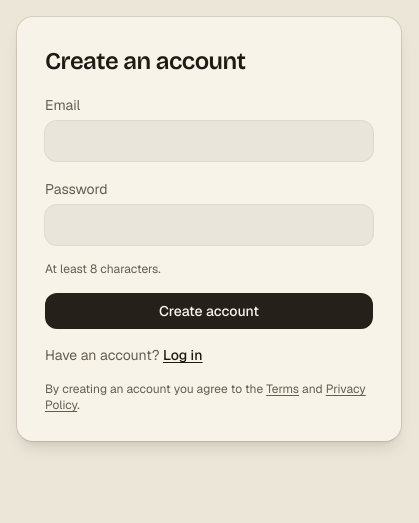
Test: SignupForm › keeps the form and shows a message when the providers endpoint fails after signup
Type "ann@example.com" into the field labelled "Email". click: (209, 141)
box: [45,121,373,161]
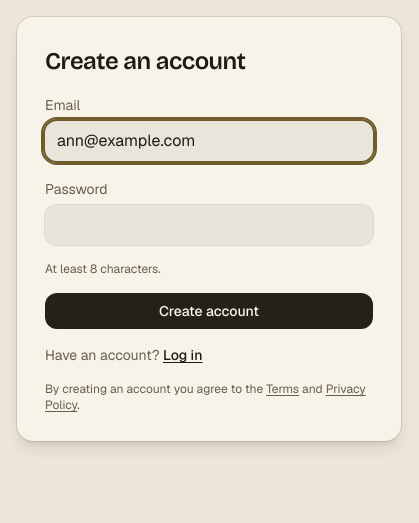
Type "correct-horse" into the password field labelled "Password". click: (209, 225)
box: [45,205,373,245]
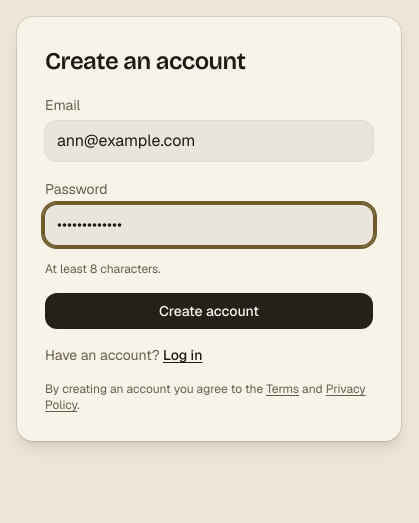
Click the button "Create account". click: click(209, 311)
box: [45,293,373,329]
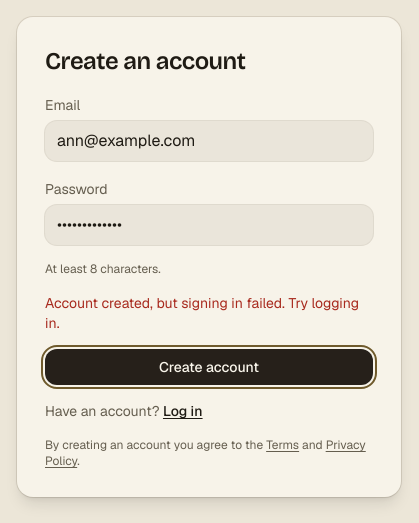
Result: the message shows "signing in failed" at [45,294,359,332]
